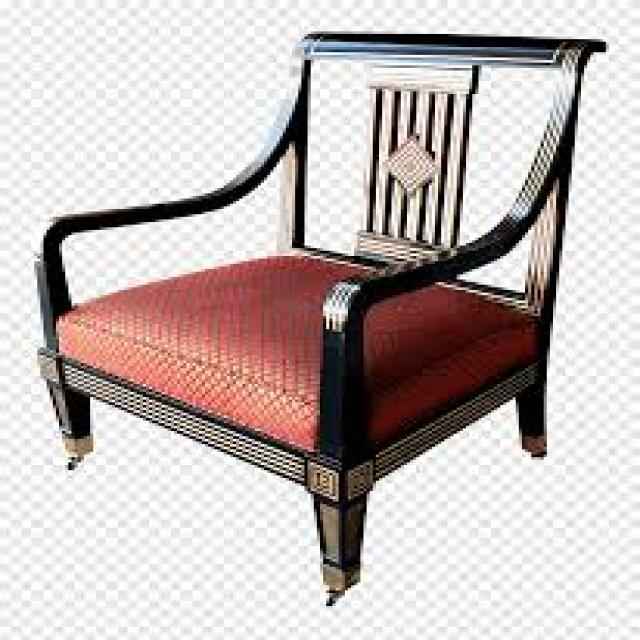chair: (31, 33, 604, 609)
